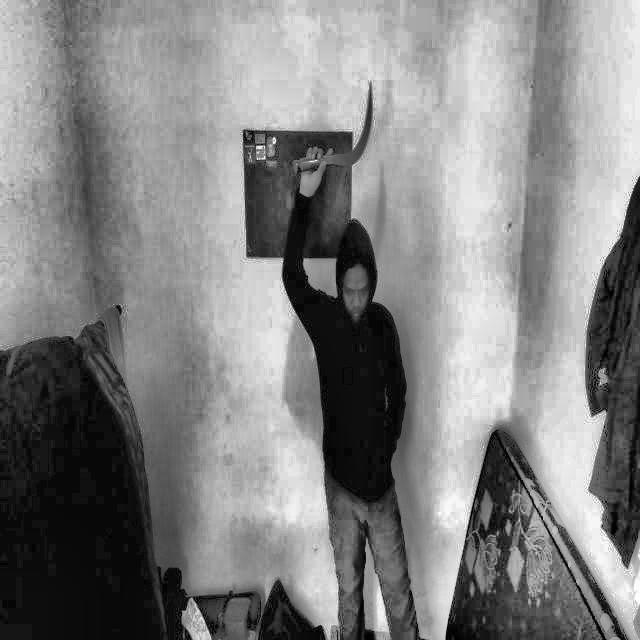celurit: (270, 80, 382, 193)
robbery: (272, 73, 428, 639)
